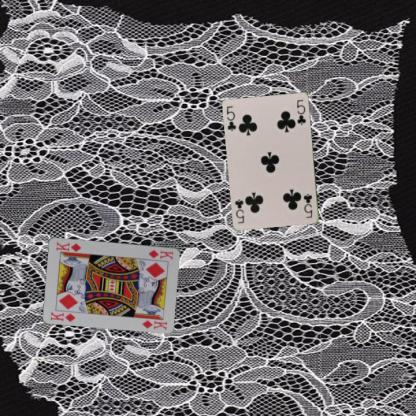5c: (224, 104, 238, 132), (301, 191, 314, 219)
Kd: (146, 247, 175, 261), (48, 309, 76, 323)
